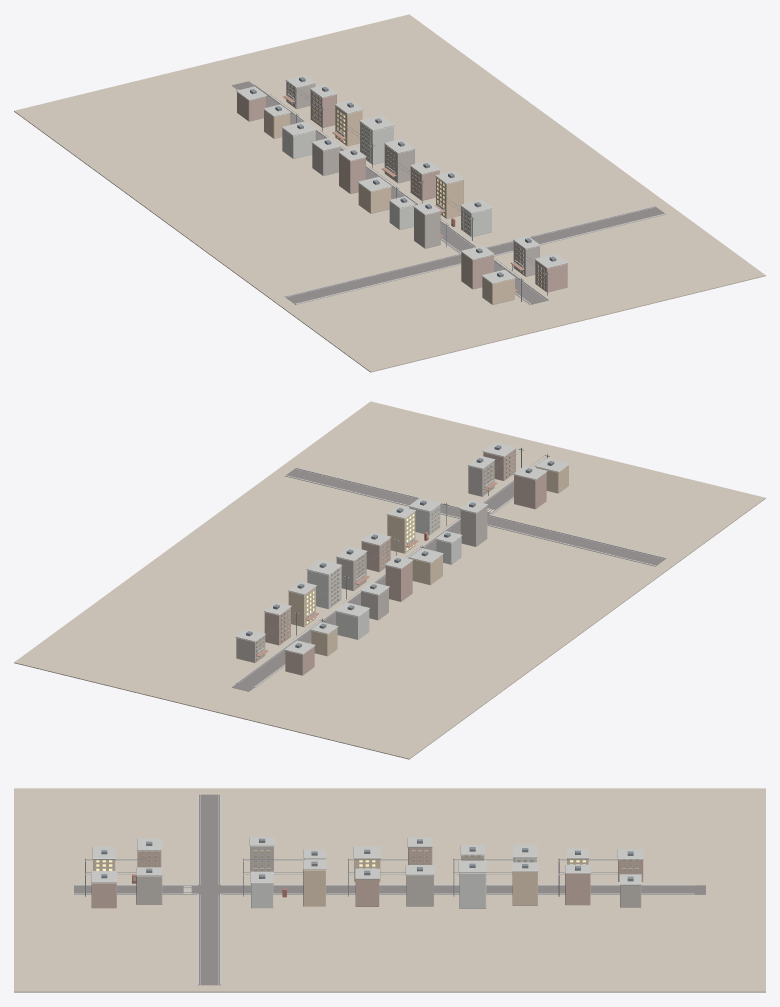
The model's file is city_morning_junction.glb.
3 views of the same model, one above another, from view 1: azimuth 30°, elevation 25°; view 2: azimuth 150°, elevation 25°; view 3: azimuth 270°, elevation 25° (orthographic). The views are drawn at different scales.
Parts seen in each view (by area): view 1: Static.Pavement, Static.Concrete, Static.Wall.peach, Static.Wall.cream, Static.Wall.silver, Static.Wall.ivory, Branch.left.Asphalt, Branch.right.Asphalt, Static.Frame, Static.Steel, Branch.front.Asphalt, Static.Window (+1 smaller); view 2: Static.Pavement, Static.Concrete, Static.Wall.peach, Static.Wall.silver, Static.Wall.cream, Static.Wall.ivory, Branch.left.Asphalt, Branch.front.Asphalt, Branch.right.Asphalt, Static.Frame, Static.Steel, Static.Window (+1 smaller); view 3: Static.Pavement, Static.Concrete, Static.Wall.peach, Static.Wall.silver, Branch.front.Asphalt, Static.Wall.cream, Branch.right.Asphalt, Branch.left.Asphalt, Static.Steel, Static.Wall.ivory, Static.Asphalt, Static.Frame (+4 smaller).
Part boxes in pixels (bbox=[...]): Static.Pavement: bbox=[14, 14, 765, 372]; Static.Concrete: bbox=[236, 75, 567, 304]; Static.Wall.peach: bbox=[237, 90, 567, 292]; Static.Wall.cream: bbox=[264, 106, 514, 304]; Static.Wall.silver: bbox=[286, 81, 539, 276]; Static.Wall.ivory: bbox=[282, 122, 491, 237]; Branch.left.Asphalt: bbox=[285, 254, 461, 304]; Branch.right.Asphalt: bbox=[487, 206, 664, 254]; Static.Frame: bbox=[287, 82, 549, 289]; Static.Steel: bbox=[250, 77, 556, 301]; Branch.front.Asphalt: bbox=[232, 81, 475, 252]; Static.Window: bbox=[287, 82, 544, 288]; Static.Pavement: bbox=[14, 401, 765, 759]; Static.Concrete: bbox=[235, 442, 569, 654]; Static.Wall.peach: bbox=[264, 449, 546, 675]; Static.Wall.silver: bbox=[236, 461, 494, 662]; Static.Wall.cream: bbox=[288, 465, 568, 656]; Static.Wall.ivory: bbox=[307, 505, 461, 639]; Branch.left.Asphalt: bbox=[487, 516, 665, 565]; Branch.front.Asphalt: bbox=[232, 520, 460, 691]; Branch.right.Asphalt: bbox=[286, 468, 460, 517]; Static.Frame: bbox=[256, 448, 549, 660]; Static.Steel: bbox=[246, 445, 554, 648]; Static.Window: bbox=[256, 453, 513, 660]; Static.Pavement: bbox=[14, 788, 765, 992]; Static.Concrete: bbox=[74, 837, 643, 894]; Static.Wall.peach: bbox=[91, 847, 643, 908]; Static.Wall.silver: bbox=[136, 846, 641, 907]; Branch.front.Asphalt: bbox=[221, 885, 705, 894]; Static.Wall.cream: bbox=[93, 858, 588, 906]; Branch.right.Asphalt: bbox=[199, 894, 219, 985]; Branch.left.Asphalt: bbox=[199, 794, 219, 884]; Static.Steel: bbox=[85, 838, 633, 896]; Static.Wall.ivory: bbox=[251, 857, 536, 908]; Static.Asphalt: bbox=[74, 885, 221, 894]; Static.Frame: bbox=[85, 850, 638, 878].
Bounding box in the file's own units: 64 × 6.07 × 100.
